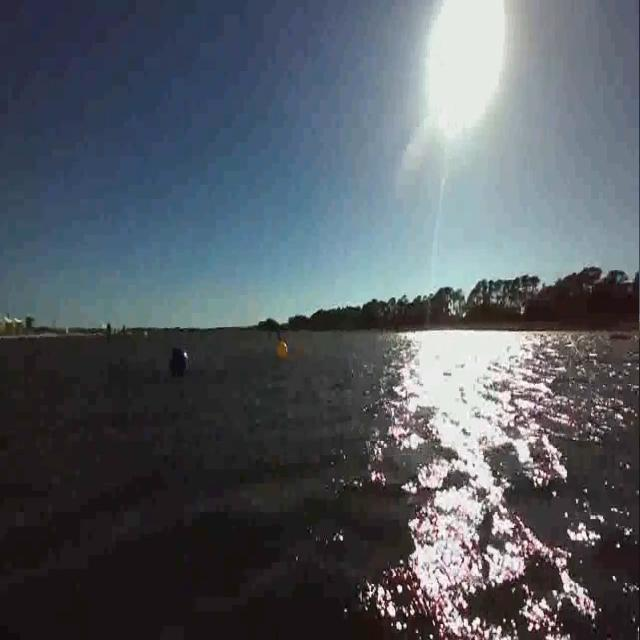blue-buoy: (172, 346, 191, 378)
